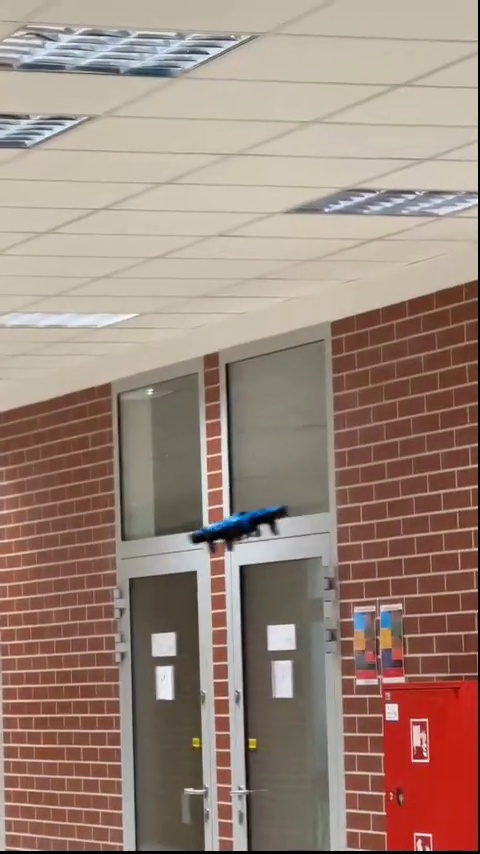drone: (192, 505, 288, 545)
